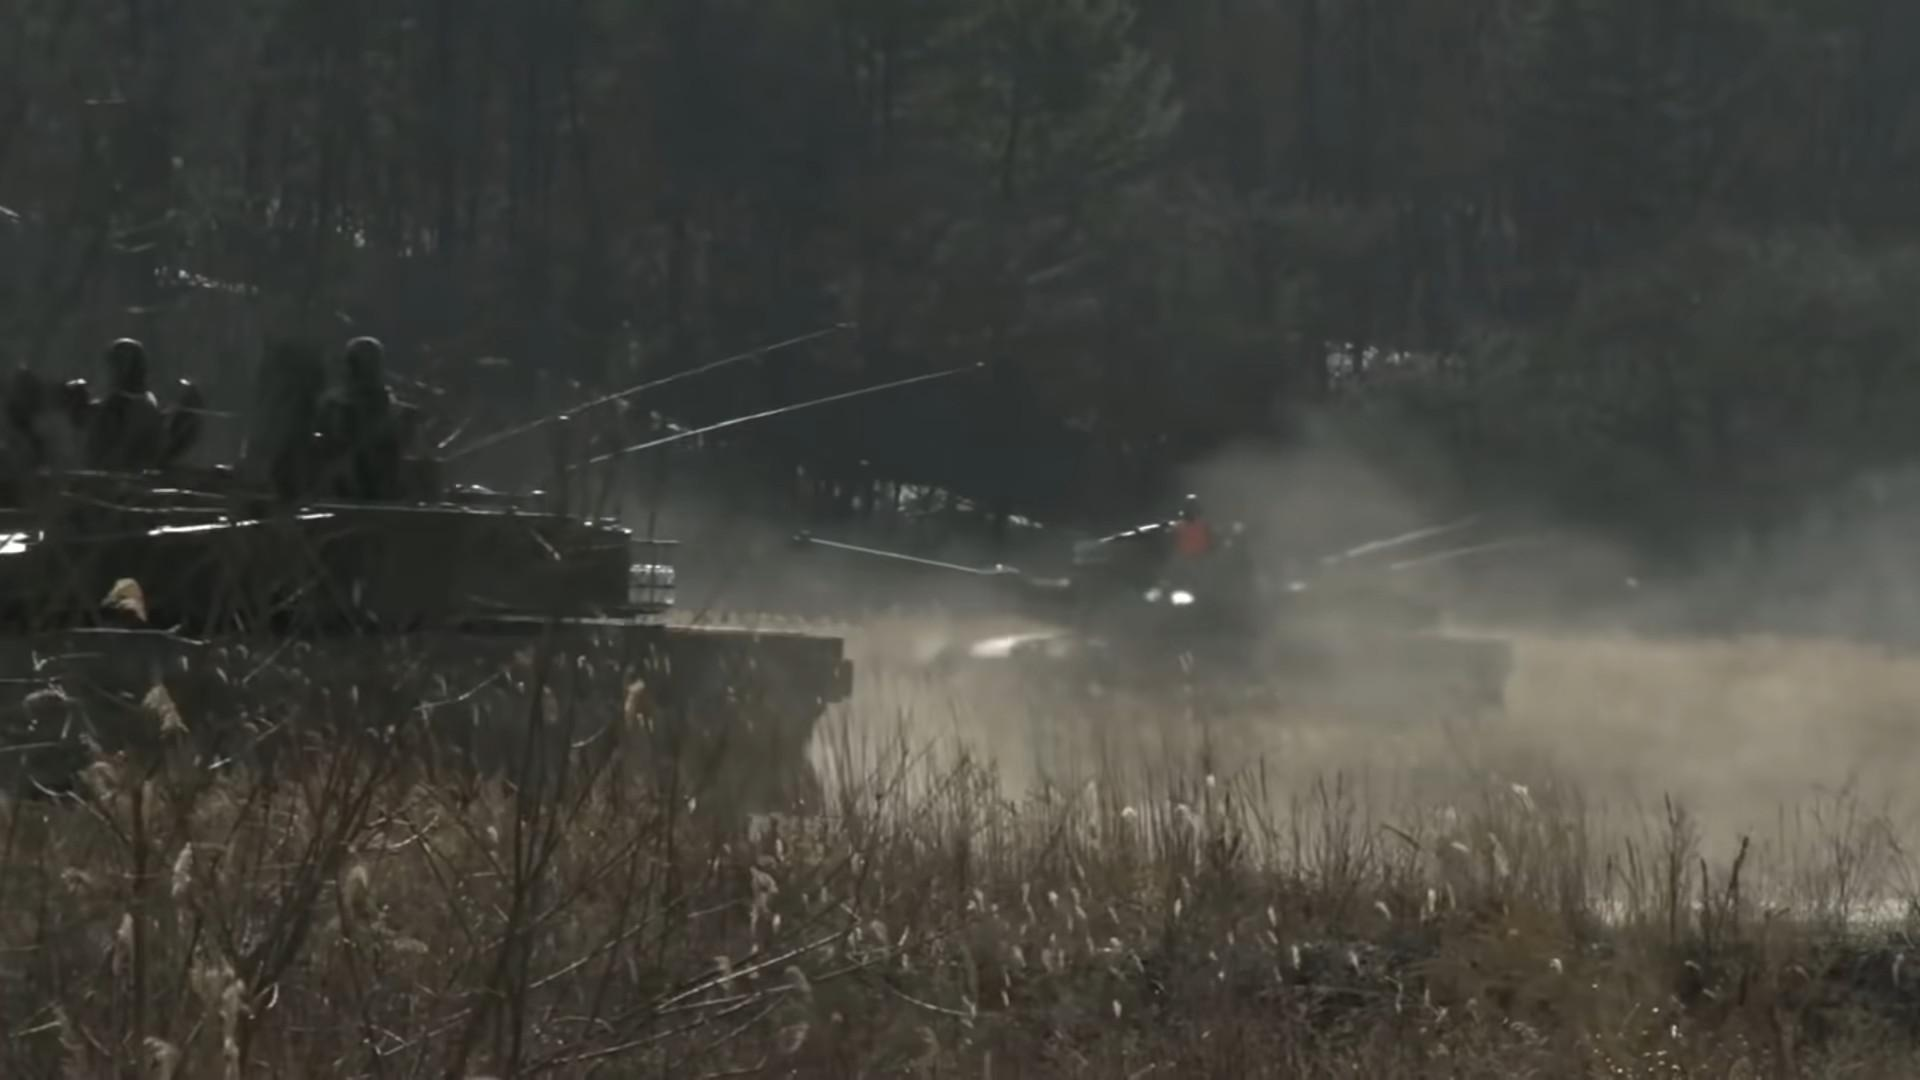tank: (0, 410, 848, 825), (798, 521, 1511, 731)
